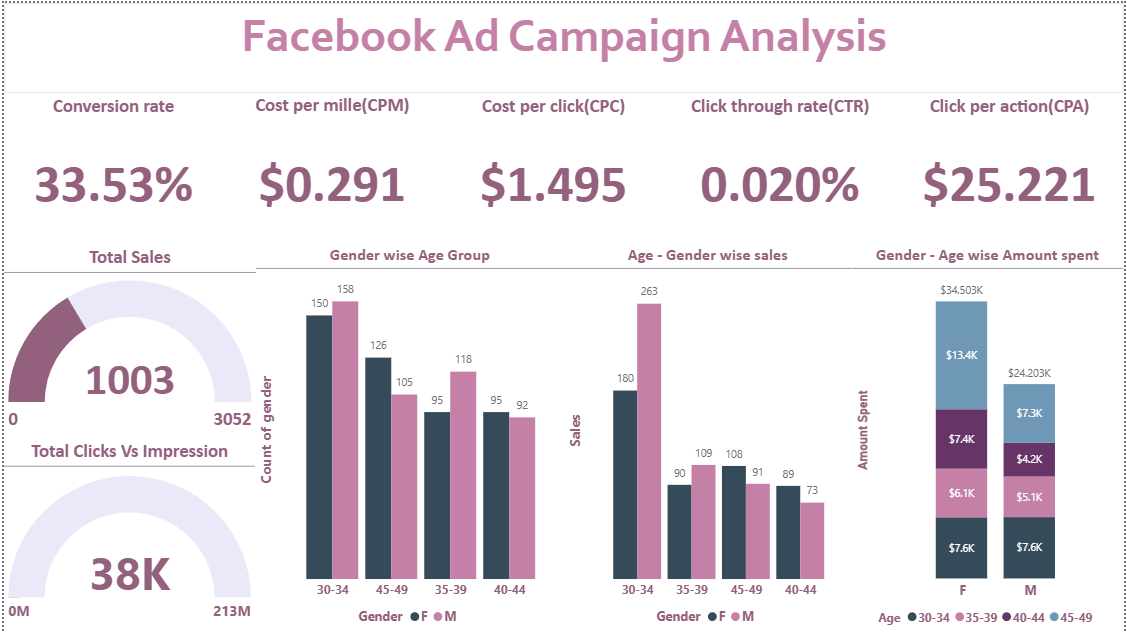

This screenshot's page, from the dashboard's own definition file:
{"tool":"powerbi","page":{"name":"Page 1","canvas":[1280,720],"ordinal":0},"visuals":[{"type":"textbox","box":[0,0,1280,103.1],"z":0},{"type":"card","title":"Conversion rate","fields":{"Values":["Avg(working.Conversion rate)"]},"box":[0,104.9,250.2,171.4],"z":0,"group":"g1"},{"type":"clusteredColumnChart","title":"Gender wise Age Group","fields":{"Category":["working.age"],"Y":["CountNonNull(working.gender)"],"Series":["working.gender"]},"box":[287.3,276.3,353.3,444.1],"z":0,"group":"g2"},{"type":"group","id":"g1","title":"Group 1","box":[0,103.1,1280,173.2],"z":1000},{"type":"card","title":"Cost per click(CPC)","fields":{"Values":["Avg(working.CPC)"]},"box":[500.5,104.9,255.7,171.4],"z":1000,"group":"g1"},{"type":"gauge","title":"Total Sales","fields":{"MaxValue":["Sum(working.Total_Conversion)"],"Y":["Sum(working.Approved_Conversion)"]},"box":[0,277.3,288,221.3],"z":1000,"group":"g2"},{"type":"card","title":"Click through rate(CTR)","fields":{"Values":["Avg(working.CTR)"]},"box":[756.2,104.9,262.6,171.4],"z":2000,"group":"g1"},{"type":"group","id":"g2","title":"Group 2","box":[0,276.3,1280,444.1],"z":2000},{"type":"gauge","title":"Total Clicks Vs Impression","fields":{"MaxValue":["Sum(working.Impressions)"],"Y":["Sum(working.Clicks)"]},"box":[0,499,287.3,221.4],"z":2000,"group":"g2"},{"type":"card","title":"Cost per mille(CPM)","fields":{"Values":["Avg(working.CPM)"]},"box":[250.2,103.1,250.2,173.2],"z":3000,"group":"g1"},{"type":"clusteredColumnChart","title":"Age - Gender wise sales","fields":{"Category":["working.age"],"Y":["Sum(working.Approved_Conversion)"],"Series":["working.gender"]},"box":[640.7,276.3,328.6,444.1],"z":3000,"group":"g2"},{"type":"card","title":"Click per action(CPA)","fields":{"Values":["Avg(working.CPA)"]},"box":[1018.8,104.9,261.2,171.4],"z":4000,"group":"g1"},{"type":"columnChart","title":"Gender - Age wise Amount spent","fields":{"Category":["working.gender"],"Y":["Sum(working.Spent)"],"Series":["working.age"]},"box":[969.3,276.3,310.7,444.1],"z":4000,"group":"g2"}]}

Visuals, with their boxes in screenshot pixels (x1, y1, x2, y2), scaled from the page's 1280x720 canvas onto the 1127x633 screenshot:
textbox: bbox=(0, 0, 1126, 91)
"Conversion rate" card: bbox=(0, 92, 220, 243)
"Gender wise Age Group" clusteredColumnChart: bbox=(253, 243, 564, 632)
"Group 1" group: bbox=(0, 91, 1126, 243)
"Cost per click(CPC)" card: bbox=(441, 92, 666, 243)
"Total Sales" gauge: bbox=(0, 244, 254, 438)
"Click through rate(CTR)" card: bbox=(666, 92, 897, 243)
"Group 2" group: bbox=(0, 243, 1126, 632)
"Total Clicks Vs Impression" gauge: bbox=(0, 439, 253, 632)
"Cost per mille(CPM)" card: bbox=(220, 91, 441, 243)
"Age - Gender wise sales" clusteredColumnChart: bbox=(564, 243, 853, 632)
"Click per action(CPA)" card: bbox=(897, 92, 1126, 243)
"Gender - Age wise Amount spent" columnChart: bbox=(853, 243, 1126, 632)
